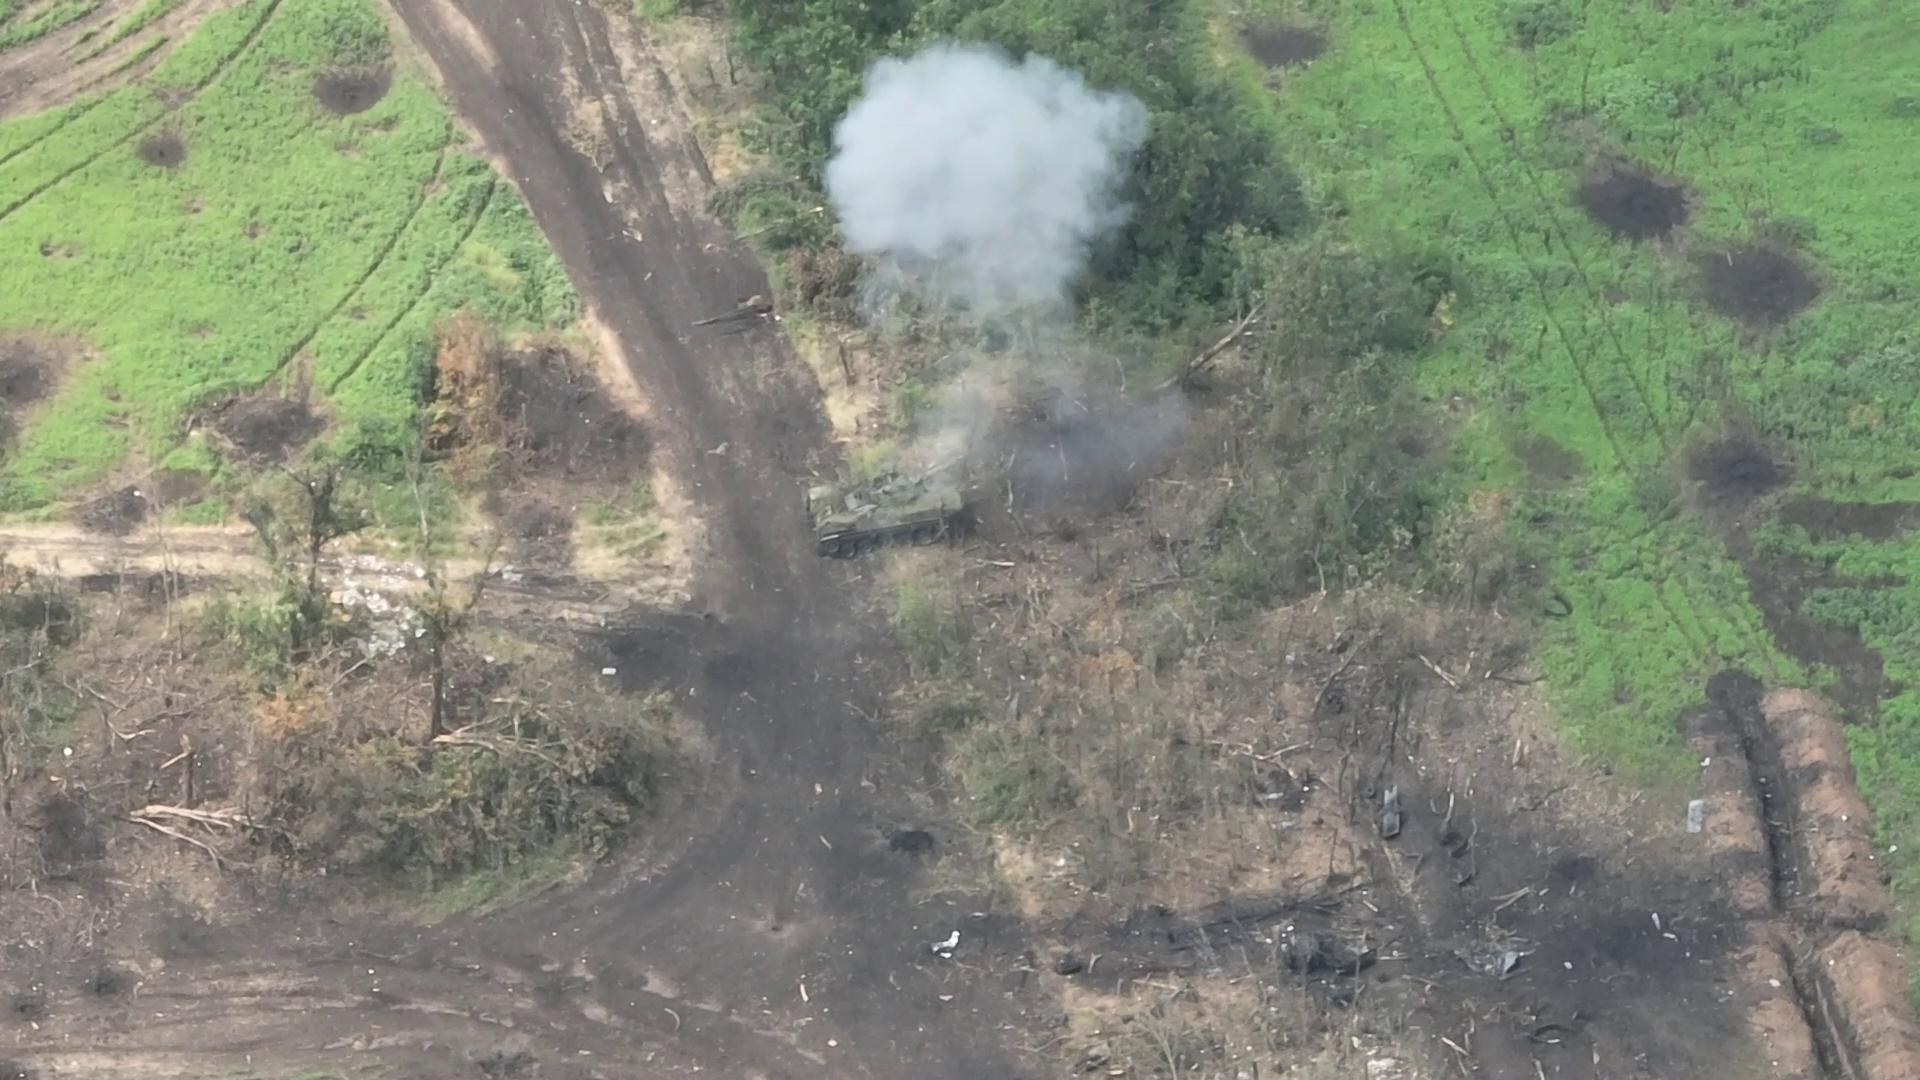tank: (800, 450, 971, 563)
